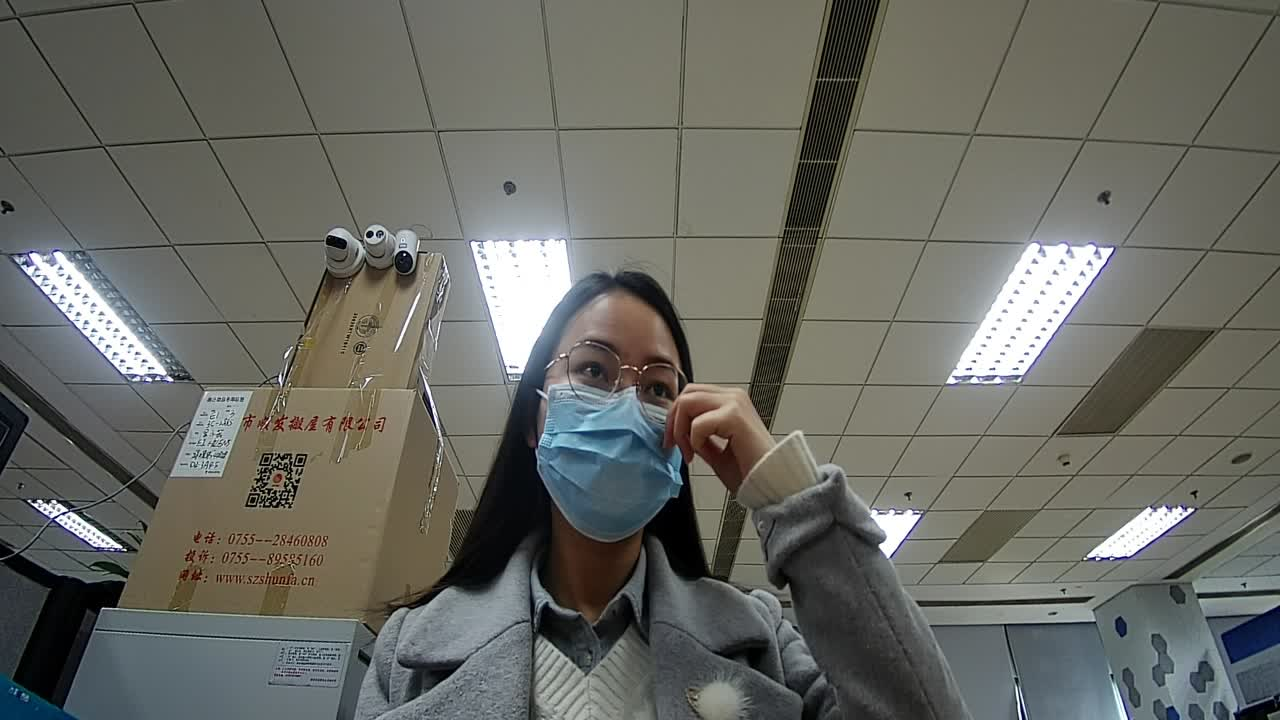face: (523, 299, 708, 545)
mask: (544, 386, 683, 544)
person: (368, 234, 822, 719)
